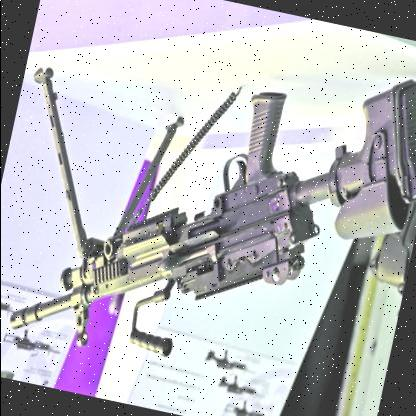rifle: (0, 36, 416, 410), (201, 339, 257, 375), (6, 326, 65, 359), (212, 369, 263, 399), (222, 394, 272, 416), (0, 282, 18, 321)
